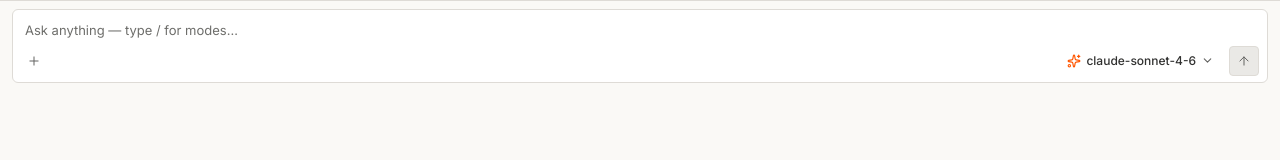
Scenario: ChatComposer › arrow keys move the active option and Enter inserts the command
The width and height of the screenshot is (1280, 160).
Type "/" into the text box named "Message" at [641, 30], box [23,16,1259,44]
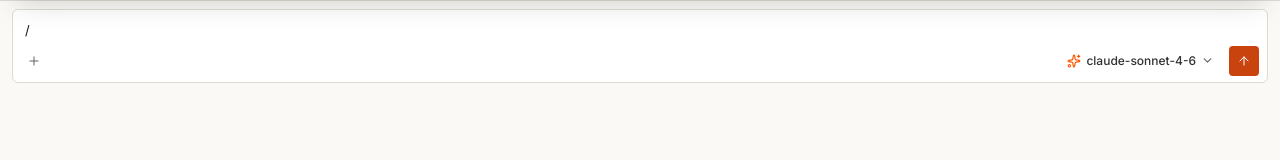
Press ArrowDown in the dropdown named "Message", box [23,16,1259,44]
Press Enter in the dropdown named "Message", box [23,16,1259,44]
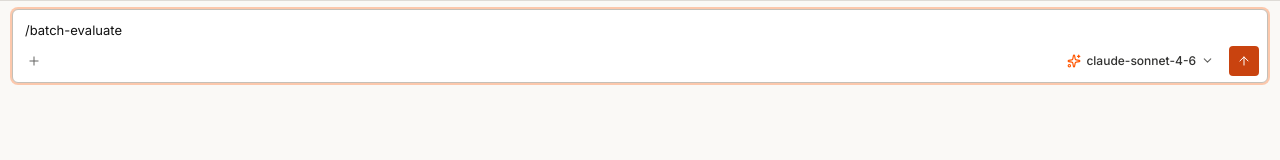
Check: the text box named "Message" holds "/batch-evaluate ", box [23,16,1259,44]
